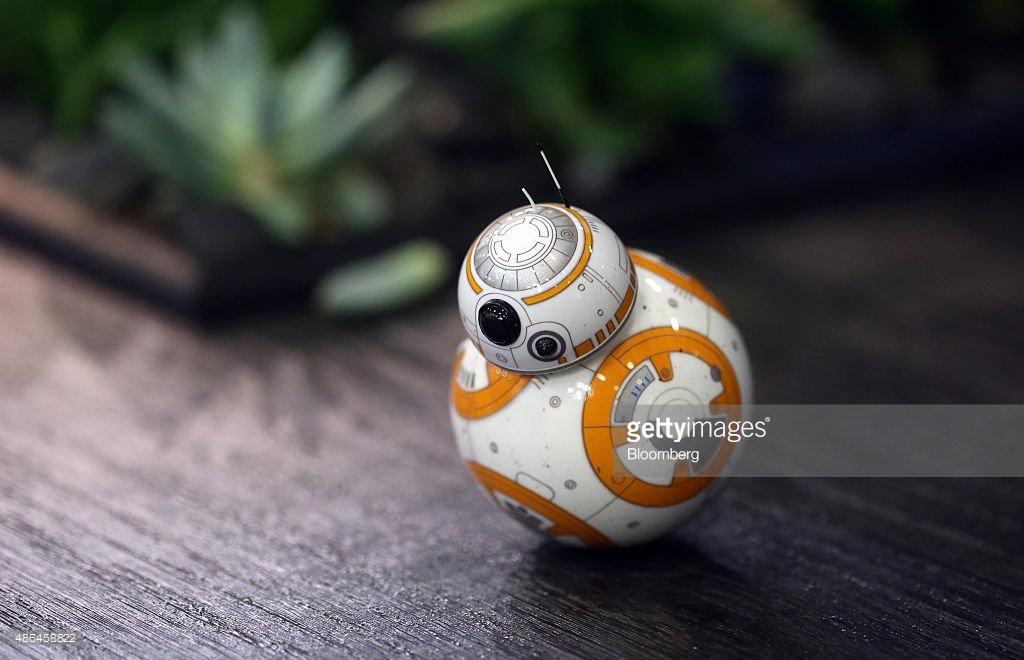bb8: (449, 203, 754, 547)
